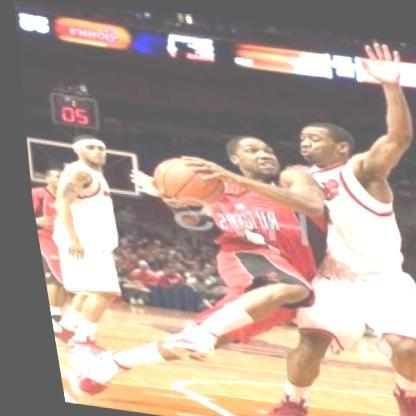basketball: (138, 144, 228, 215)
